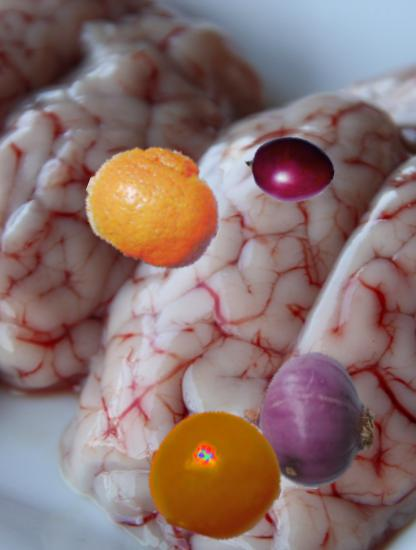Mandarine: (85, 136, 223, 274)
Onion: (240, 351, 378, 489)
Physalis: (150, 408, 284, 542)
Tamarillo: (244, 124, 335, 215)
